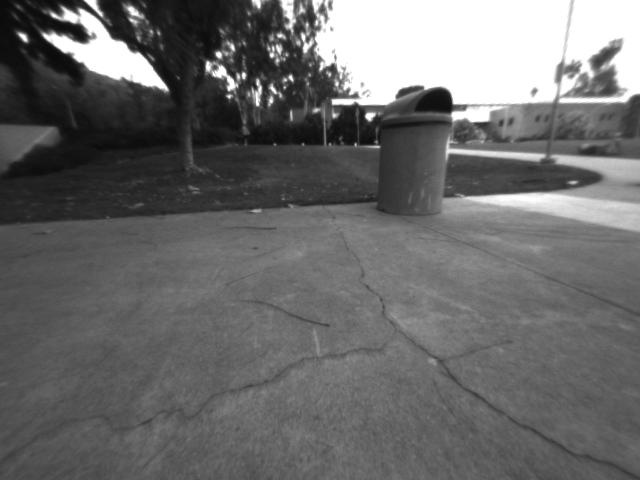trashcan: (352, 73, 472, 228)
